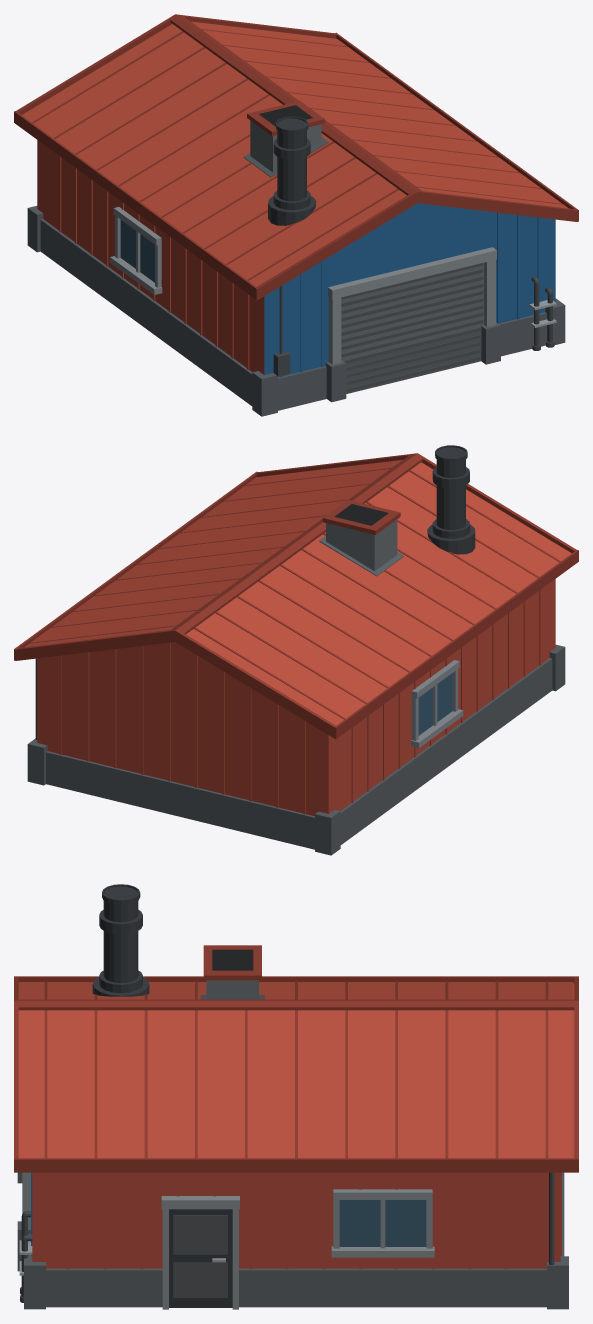
File: warehouse b.fbx
3 views of the same model, one above another, from view 1: azimuth 30°, elevation 25°; view 2: azimuth 150°, elevation 25°; view 3: azimuth 270°, elevation 25° (orthographic). The views are drawn at different scales.
Visible parts, largest first — view 1: Warehouse_B_Medium; view 2: Warehouse_B_Medium; view 3: Warehouse_B_Medium.
Boxes of the visible parts, <box> form: Warehouse_B_Medium: <box>14,14,578,416</box>; Warehouse_B_Medium: <box>14,445,578,855</box>; Warehouse_B_Medium: <box>14,884,578,1309</box>.
Size of the model in its own units: 952 by 692 by 1240.
